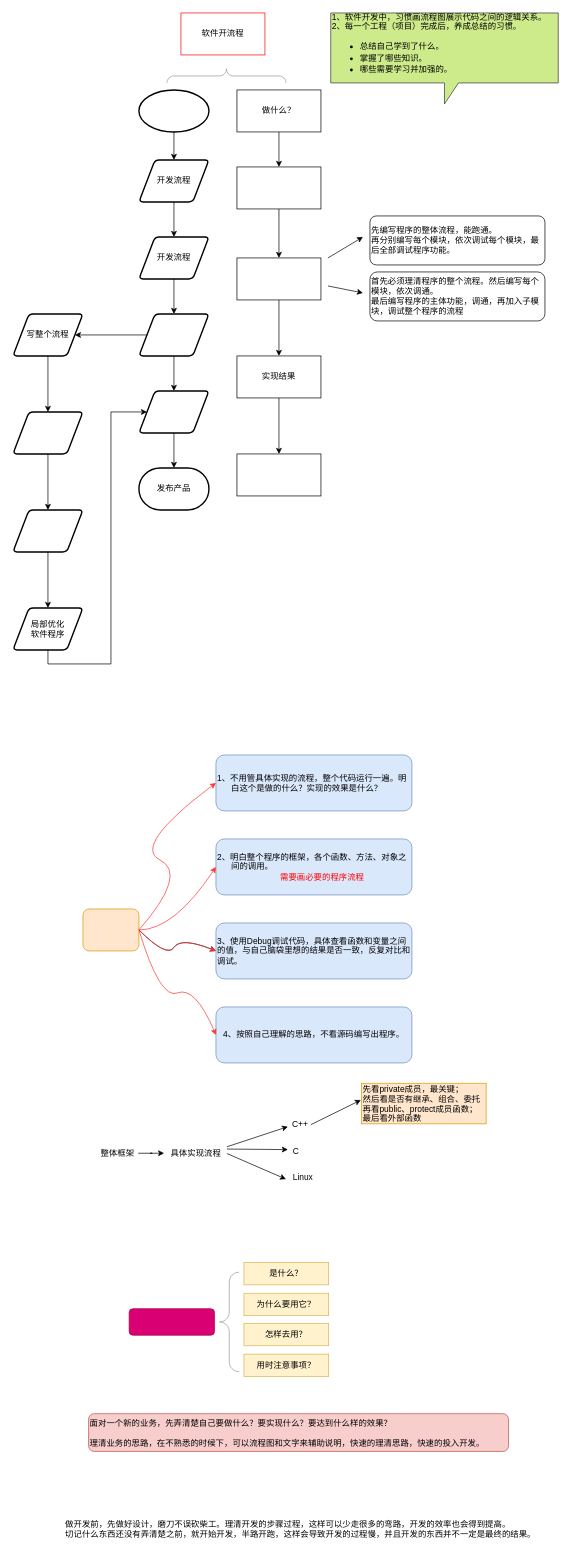
Some shapes in this 571 by 1553 pixel diagram are drawn without their labels. The shapes that lost their labels are listed below. From the top down, each one's centre as x and y in pixels, then its label:
At point 173,110: "产品需求".
At point 278,187: "怎样做？".
At point 278,278: "具体步骤？ 两种思路".
At point 173,334: "程序流程".
At point 173,411: "产品与预期 结果".
At point 47,432: "写局部流程".
At point 278,474: "总结".
At point 47,530: "完成整体 软件程序".
At point 110,929: "快速学习别人开发的代码".
At point 171,1321: "如何学习知识点".
